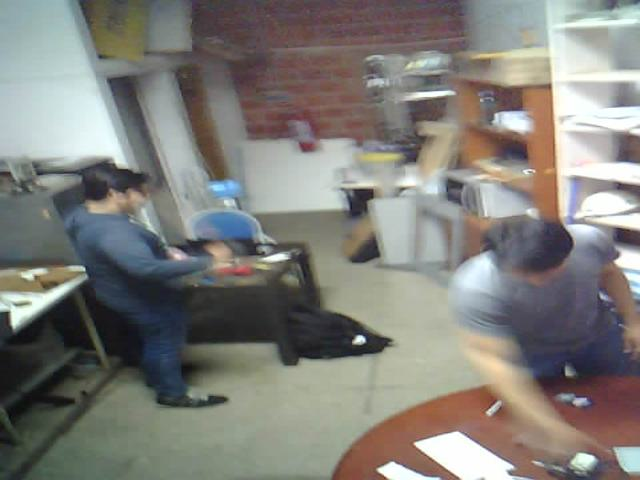person: (408, 193, 638, 480), (47, 159, 243, 422)
